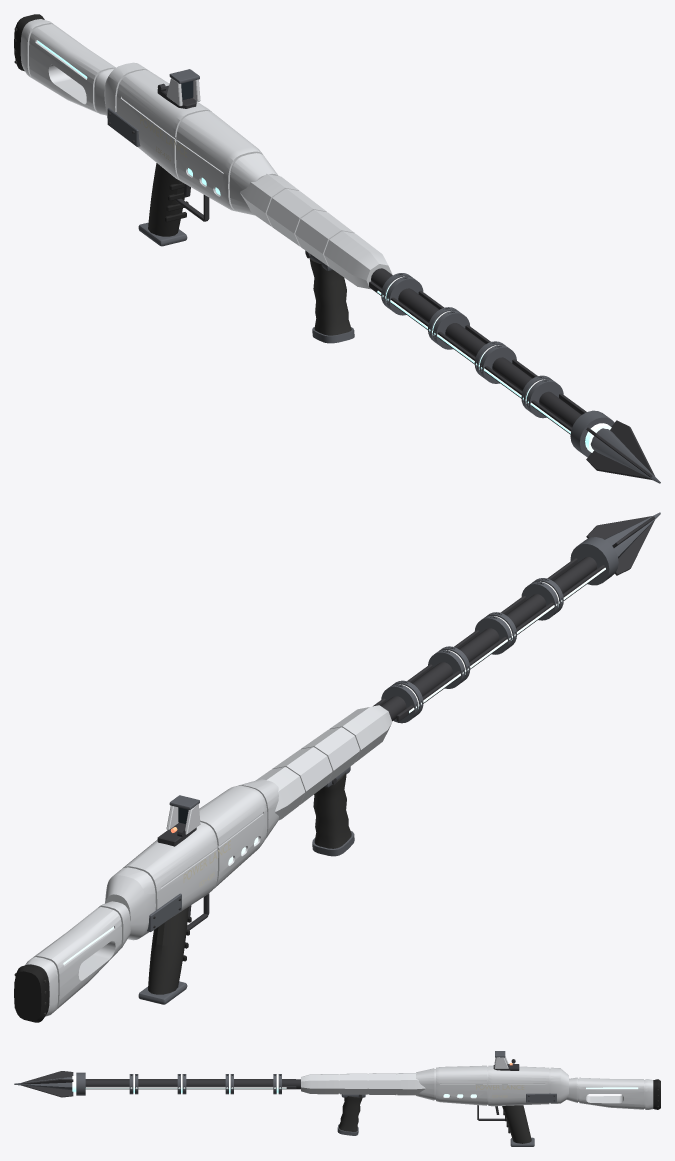
Rendered from powerlance.glb.
3 renders of one model, top to bottom at view 1: azimuth 30°, elevation 25°; view 2: azimuth 150°, elevation 25°; view 3: azimuth 270°, elevation 25°, orthographic. The views are drawn at different scales.
Parts seen in each view (by area): view 1: Body; view 2: Body; view 3: Body, Body_marks.
Part boxes in pixels (left/top/right/bottom): Body: left=14, top=14, right=660, bottom=483; Body: left=14, top=512, right=660, bottom=1022; Body: left=14, top=1051, right=660, bottom=1146; Body_marks: left=476, top=1085, right=524, bottom=1097.
Bounding box in the file's own units: 0.059 × 0.2091 × 1.35.
